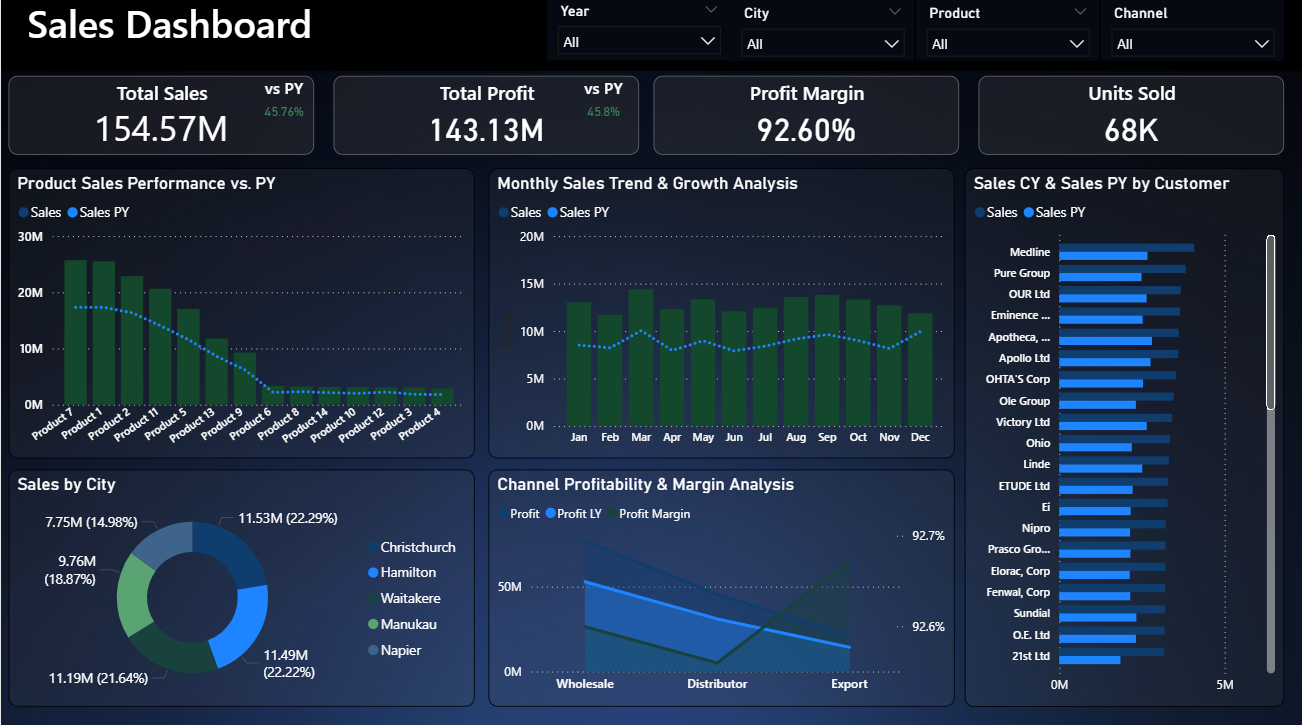

What the dashboard file says about the page in this screenshot:
{"tool":"powerbi","page":{"name":"Page 1","canvas":[1280,720],"ordinal":0},"visuals":[{"type":"textbox","title":"Sales Dashboard","box":[21.2,0,482.5,48.8],"z":1000},{"type":"slicer","fields":{"Values":["Sales_Data.Channel"]},"box":[1079.5,2.5,180.4,60.1],"z":2000},{"type":"slicer","fields":{"Values":["Date_Table.Year","Date_Table.Month Short Name Plus Year"]},"box":[536.2,0,180,62.5],"z":3000},{"type":"slicer","fields":{"Values":["Regions_Table.City"]},"box":[717,2.5,180,60.1],"z":4000},{"type":"slicer","fields":{"Values":["Products_Data.Product Name"]},"box":[898,2.5,180.4,60.1],"z":5000},{"type":"lineClusteredColumnComboChart","title":"Product Sales Performance vs. PY","fields":{"Category":["Products_Data.Product Name"],"Y":["Measure_Table.Sales"],"Y2":["Measure_Table.Sales PY"]},"box":[7.5,167.5,457.5,285],"z":6000},{"type":"lineClusteredColumnComboChart","title":"Monthly Sales Trend & Growth Analysis","fields":{"Y":["Measure_Table.Sales"],"Y2":["Measure_Table.Sales PY"],"Category":["Date_Table.Month Short Name"]},"box":[478.8,167.5,457.5,285],"z":7000},{"type":"donutChart","fields":{"Category":["Regions_Table.City"],"Y":["Measure_Table.Sales"]},"box":[7.5,463.8,457.5,232.5],"z":8000},{"type":"areaChart","title":"Channel Profitability & Margin Analysis","fields":{"Category":["Sales_Data.Channel"],"Y":["Measure_Table.Profit","Measure_Table.Profit LY"],"Y2":["Measure_Table.Profit Margin"]},"box":[478.8,463.8,457.5,232.5],"z":9000},{"type":"clusteredBarChart","title":"Sales CY & Sales PY by Customer ","fields":{"Category":["Customer_Data.Customer Names"],"Y":["Measure_Table.Sales","Measure_Table.Sales PY"]},"box":[946.2,167.5,313.8,528.8],"z":10000},{"type":"card","title":"Total Sales","fields":{"Values":["Measure_Table.Sales"]},"box":[7.5,77.5,300,77.5],"z":13000},{"type":"card","title":"Total Profit","fields":{"Values":["Measure_Table.Profit"]},"box":[326.2,77.5,300,77.5],"z":14000},{"type":"card","title":"vs PY","fields":{"Values":["Measure_Table.Profit vs LY %"]},"box":[557.5,77.5,68.8,52.5],"z":14500},{"type":"card","title":"vs PY","fields":{"Values":["Measure_Table.YOY%"]},"box":[247.9,77.3,60.1,52.8],"z":14750},{"type":"card","title":"Profit Margin","fields":{"Values":["Measure_Table.Profit Margin"]},"box":[640,77.5,300,77.5],"z":15000},{"type":"card","title":"Units Sold","fields":{"Values":["Measure_Table.Products Sold"]},"box":[960,77.5,300,77.5],"z":16000}]}

Visuals, with their boxes in screenshot pixels (x1, y1, x2, y2), scaled from the page's 1280x720 canvas onto the 1302x725 screenshot:
"Sales Dashboard" textbox: <region>22, 0, 512, 49</region>
slicer - Sales_Data.Channel: <region>1098, 3, 1282, 63</region>
slicer - Date_Table.Year x Date_Table.Month Short Name Plus Year: <region>545, 0, 729, 63</region>
slicer - Regions_Table.City: <region>729, 3, 912, 63</region>
slicer - Products_Data.Product Name: <region>913, 3, 1097, 63</region>
"Product Sales Performance vs. PY" lineClusteredColumnComboChart: <region>8, 169, 473, 456</region>
"Monthly Sales Trend & Growth Analysis" lineClusteredColumnComboChart: <region>487, 169, 952, 456</region>
donutChart - Regions_Table.City x Measure_Table.Sales: <region>8, 467, 473, 701</region>
"Channel Profitability & Margin Analysis" areaChart: <region>487, 467, 952, 701</region>
"Sales CY & Sales PY by Customer " clusteredBarChart: <region>962, 169, 1282, 701</region>
"Total Sales" card: <region>8, 78, 313, 156</region>
"Total Profit" card: <region>332, 78, 637, 156</region>
"vs PY" card: <region>567, 78, 637, 131</region>
"vs PY" card: <region>252, 78, 313, 131</region>
"Profit Margin" card: <region>651, 78, 956, 156</region>
"Units Sold" card: <region>976, 78, 1282, 156</region>
